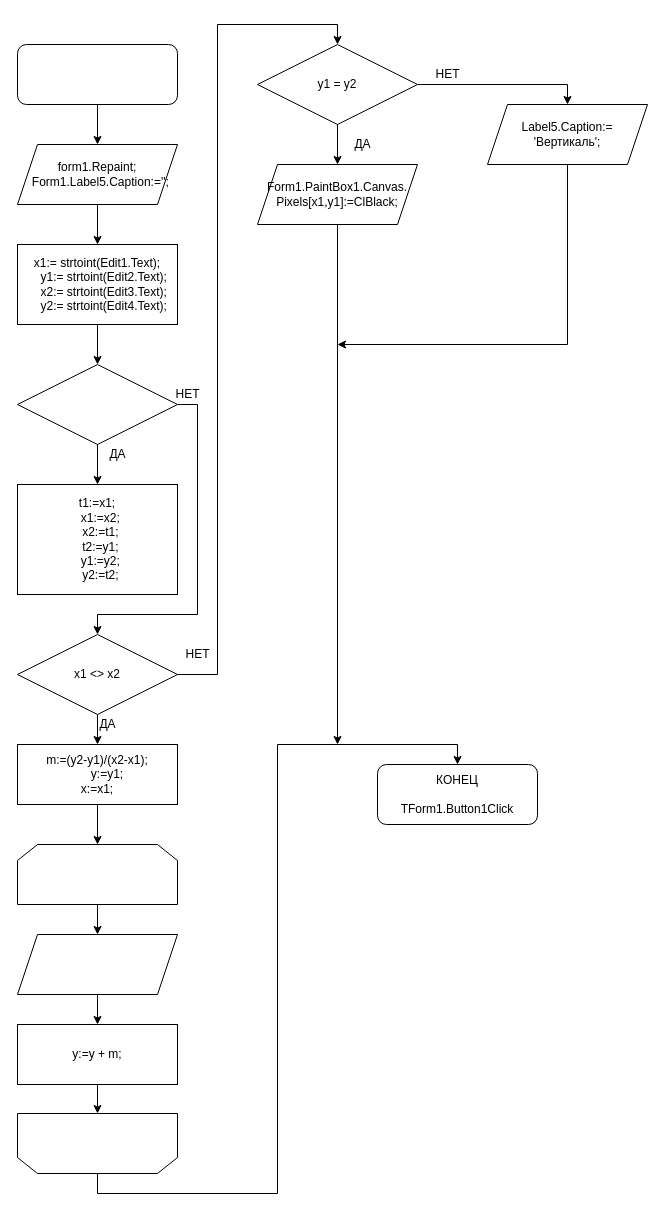
Some shapes in this 665 by 1219 pixel diagram are drawn without their labels. The shapes that lost their labels are listed below. From the top down, each one's box as (x1, y1, x2, y2) in pixels, then its label:
(16, 44, 178, 104): TForm1.Button1Click НАЧАЛО
(16, 364, 178, 444): x1>x2
(16, 844, 178, 904): C1 x>x2
(16, 934, 178, 994): Form1.PaintBox1. Canvas.Pixels[x, Round(y)]:= ClBlack;
(16, 1112, 178, 1174): C1
